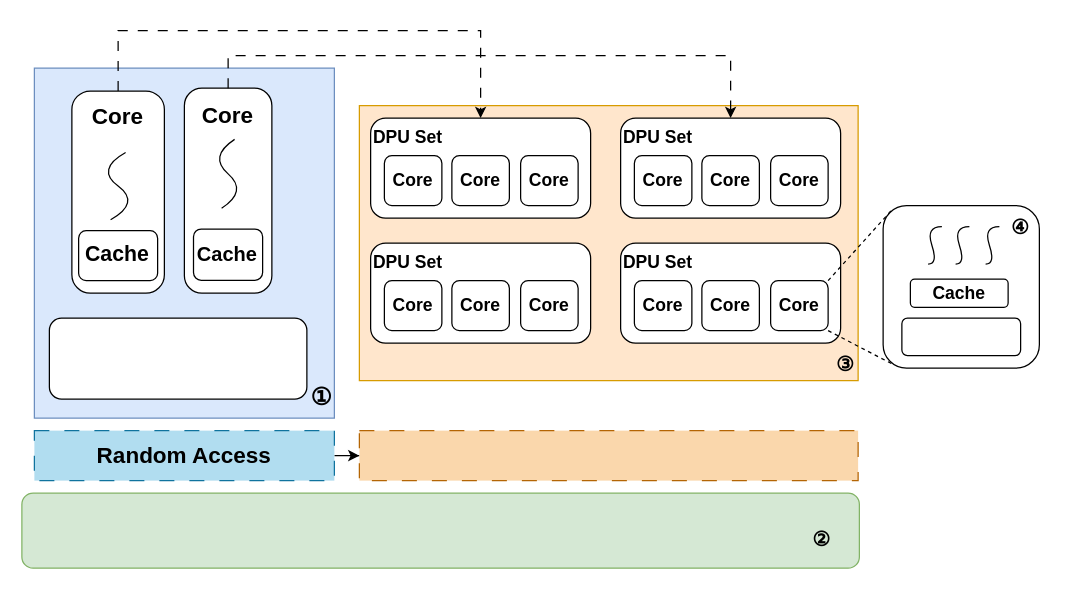
The diagram is 1080 pixels wide and 596 high, and some of its shapes have lost their labels. Each missing label, with the box of its shape:
Block Transfer API: (358, 429, 858, 481)
DRAM: (21, 492, 859, 568)
MRAM: (901, 317, 1021, 356)
Shared Cache: (48, 317, 307, 399)
